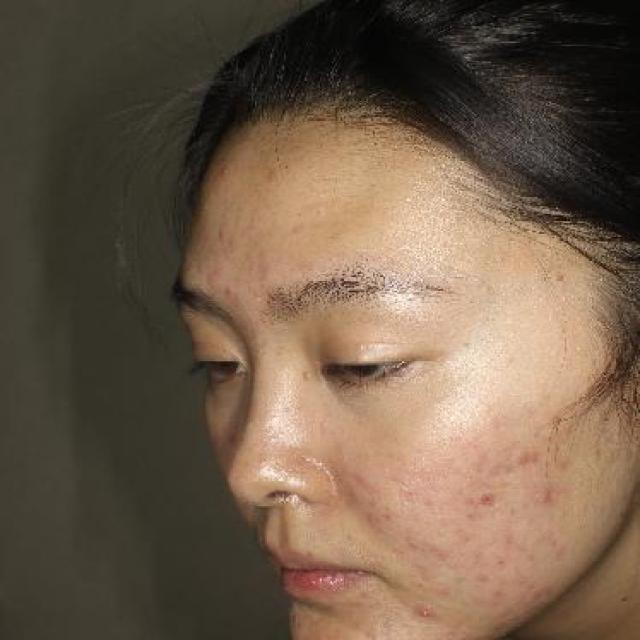blackheads: (476, 488, 494, 506)
whiteheads: (407, 604, 438, 624), (298, 365, 316, 383)
